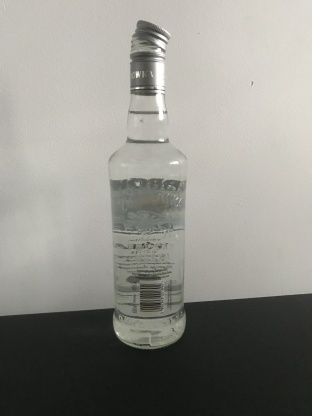nakretka: (128, 17, 170, 95)
